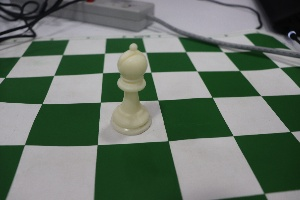white_bishop: (106, 35, 158, 141)
